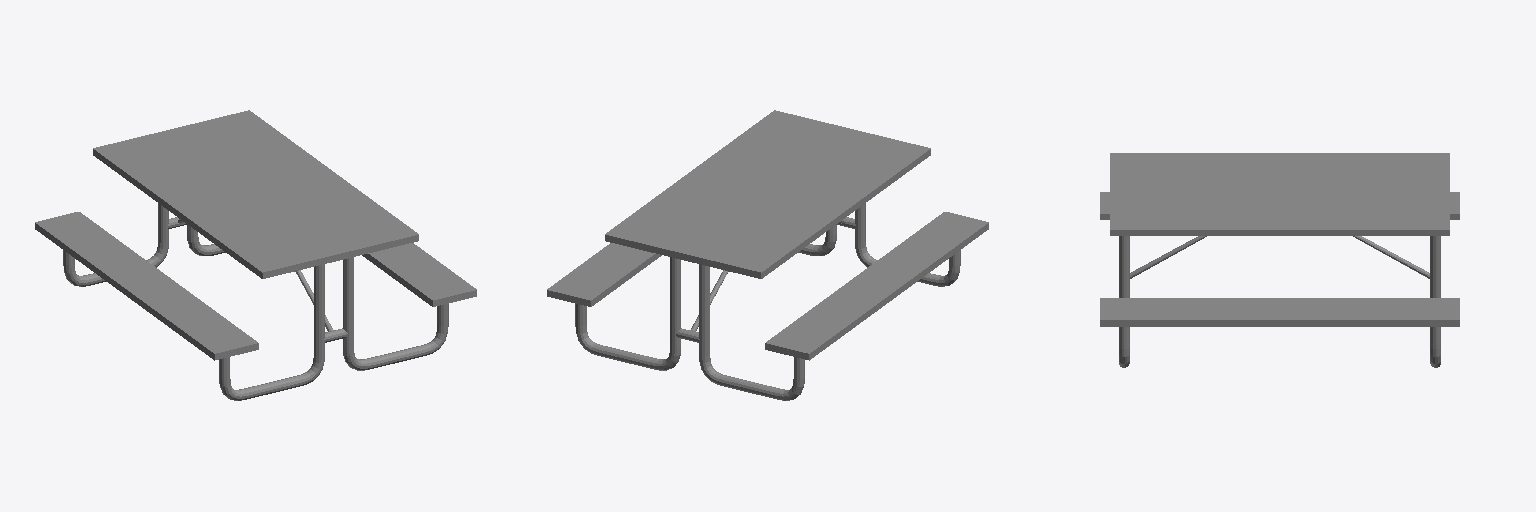
File: Mesa.obj
3 views of the same model, side by side, from view 1: azimuth 30°, elevation 25°; view 2: azimuth 150°, elevation 25°; view 3: azimuth 270°, elevation 25° (orthographic).
Parts seen in each view (by area): view 1: picnictable; view 2: picnictable; view 3: picnictable.
Boxes of the visible parts, box(x1,y1,x2,y2) form: picnictable: box(35, 110, 476, 400); picnictable: box(547, 110, 988, 400); picnictable: box(1100, 153, 1459, 367).
Bounding box in the file's own units: 30.02 × 14.1 × 35.6.